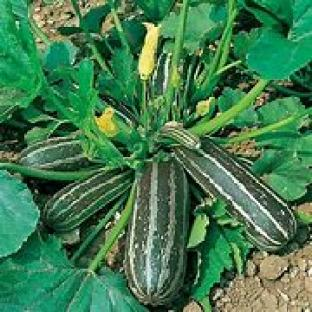Zucchini: (176, 139, 296, 251), (125, 160, 188, 305), (44, 170, 133, 232), (20, 137, 90, 171)
